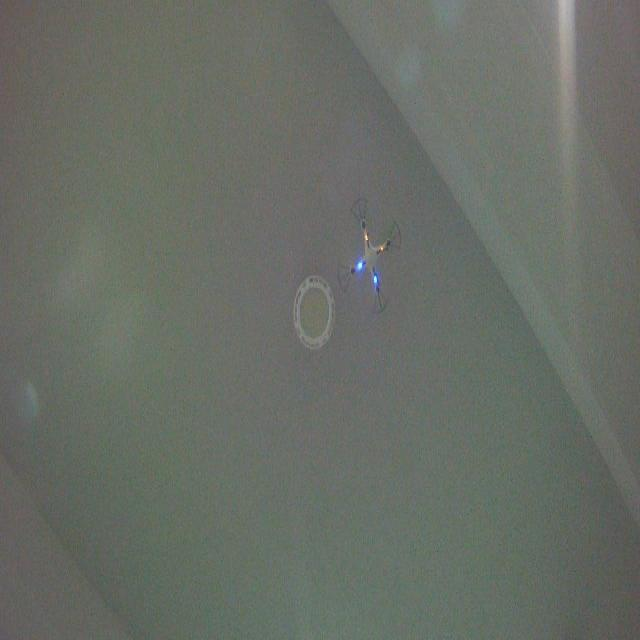drone: (334, 198, 402, 316)
